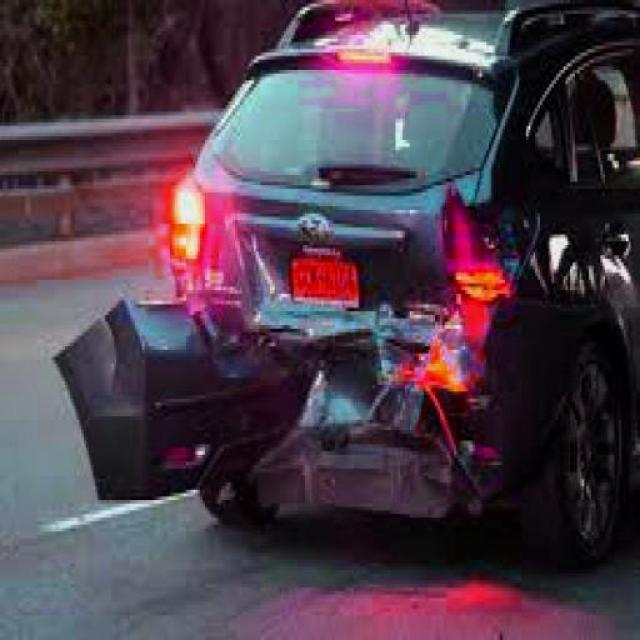Car-Damage: (55, 184, 551, 534)
